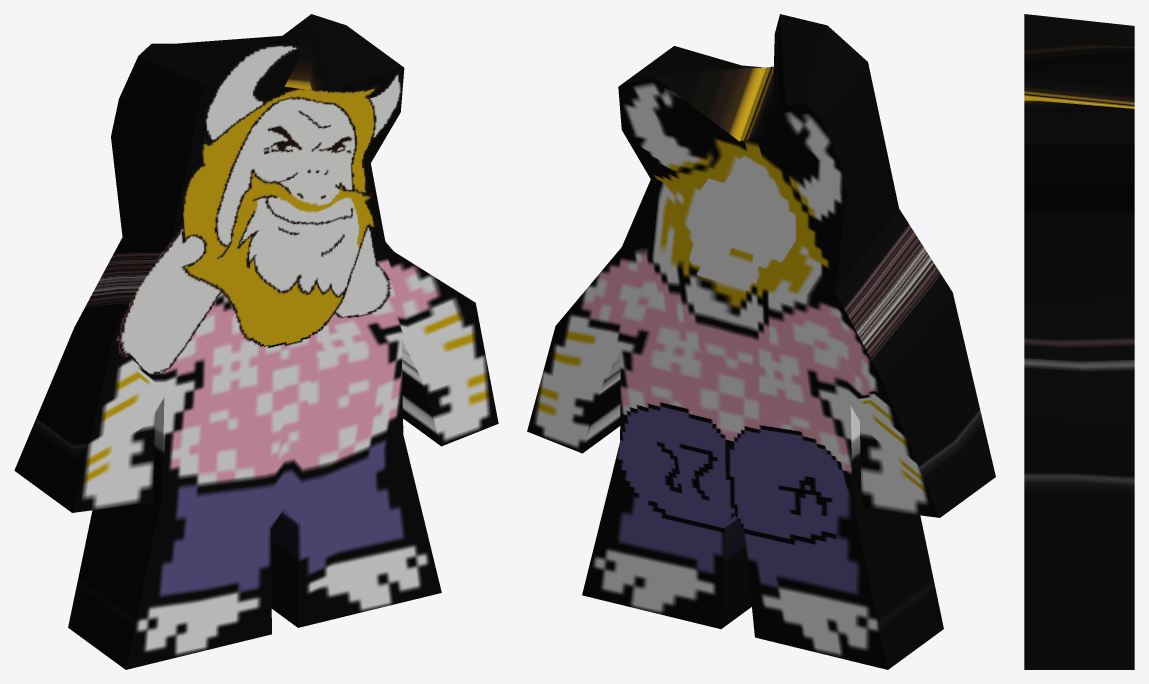
File: asgore.fbx
The picture shows the model from 3 angles, left to right: view 1: azimuth 30°, elevation 25°; view 2: azimuth 150°, elevation 25°; view 3: azimuth 270°, elevation 25°; orthographic projection. The views are drawn at different scales.
Parts seen in each view (by area): view 1: Plane.001; view 2: Plane.001; view 3: Plane.001.
Part boxes in pixels (x1,y1,x2,y2): Plane.001: (14,14,498,669); Plane.001: (527,14,995,669); Plane.001: (1024,14,1134,669).
Bounding box in the file's own units: 197 × 838 × 1115.
1 material, 1 textured.
